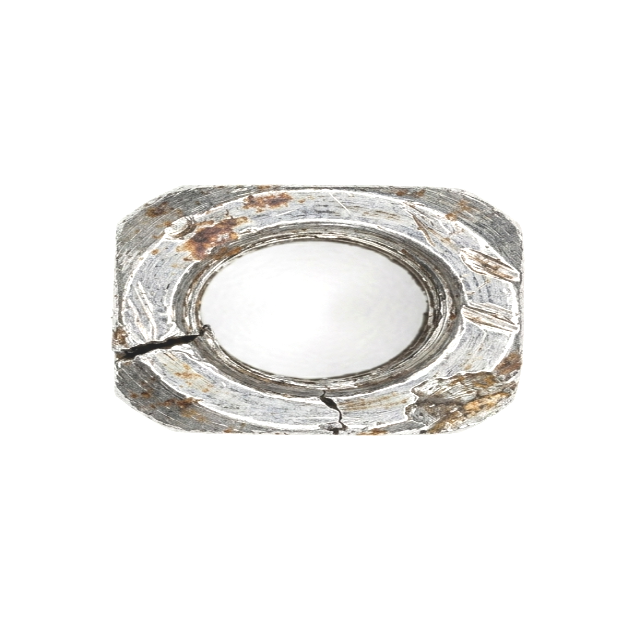defect: (405, 371, 517, 433), (110, 318, 214, 361), (459, 245, 524, 290), (457, 301, 521, 337), (403, 200, 456, 243), (319, 381, 351, 438), (166, 210, 203, 244)
